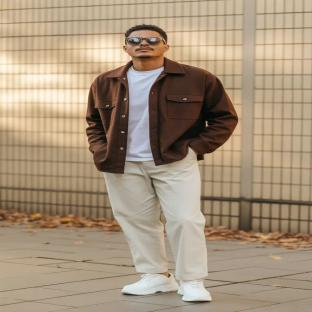Human: (86, 25, 237, 301)
